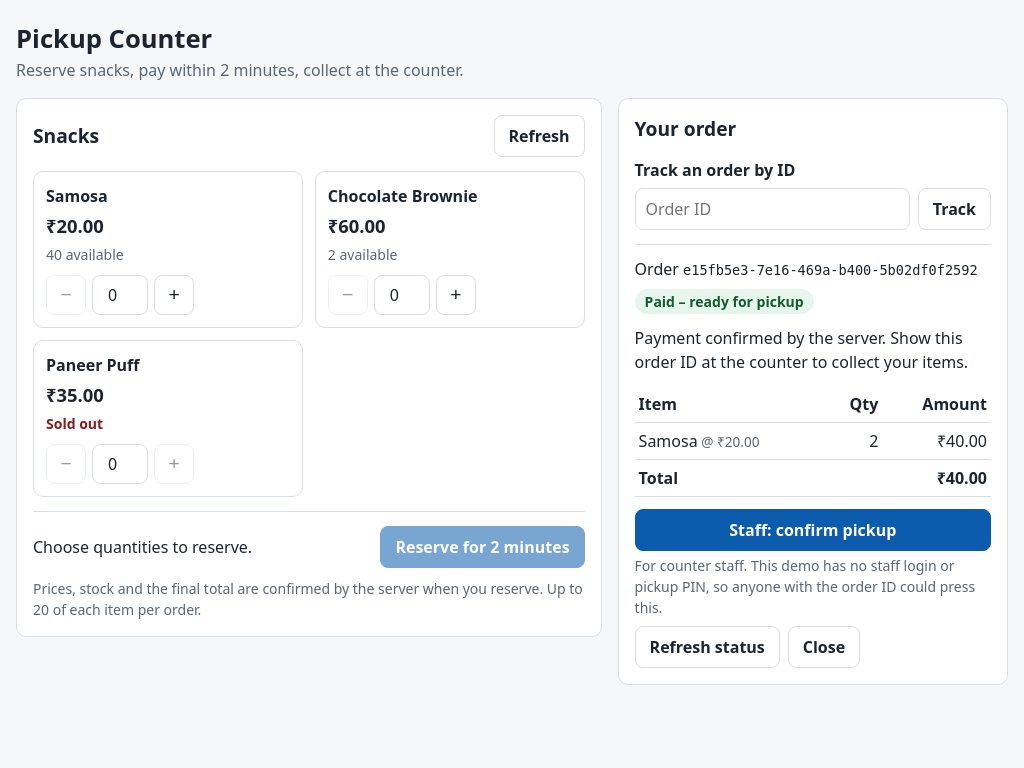
Test: pickup collection › tells staff when a competing claim already collected the order (409)
Step 1. Click the button "Staff: confirm pickup" → (813, 530), box [635,509,991,551]
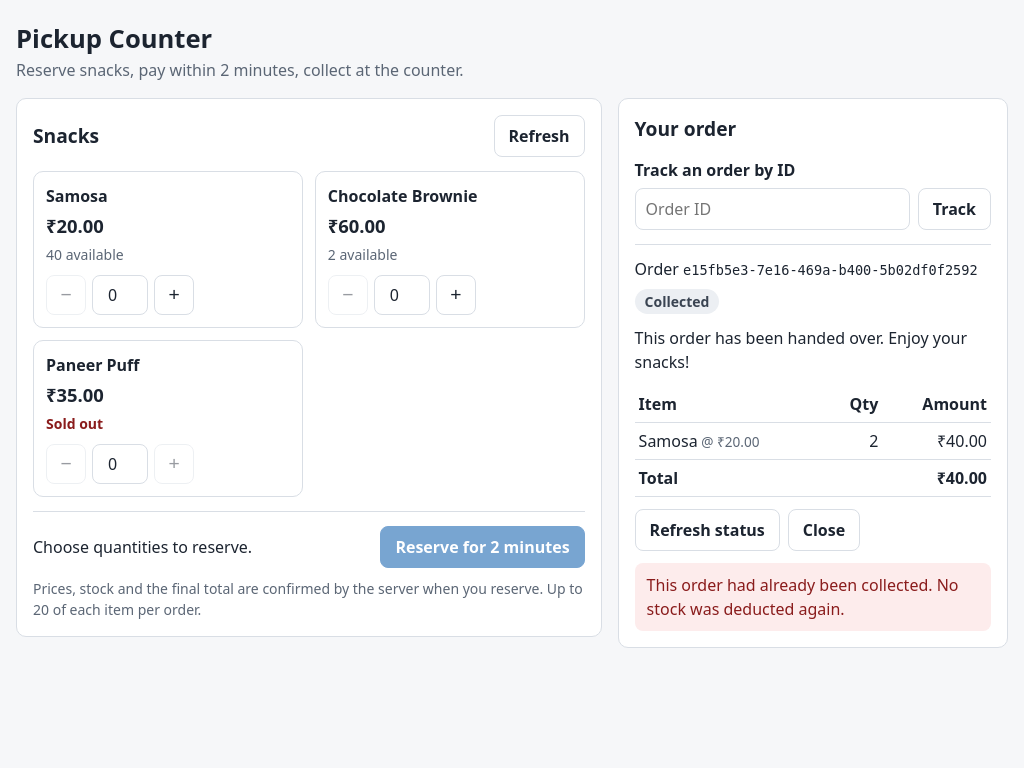
Check: the message reads "This order had already been collected. No stock was deducted again.", box [647,574,958,620]
Check: the text with id "order-status" reads "Collected", box [645,292,709,311]
